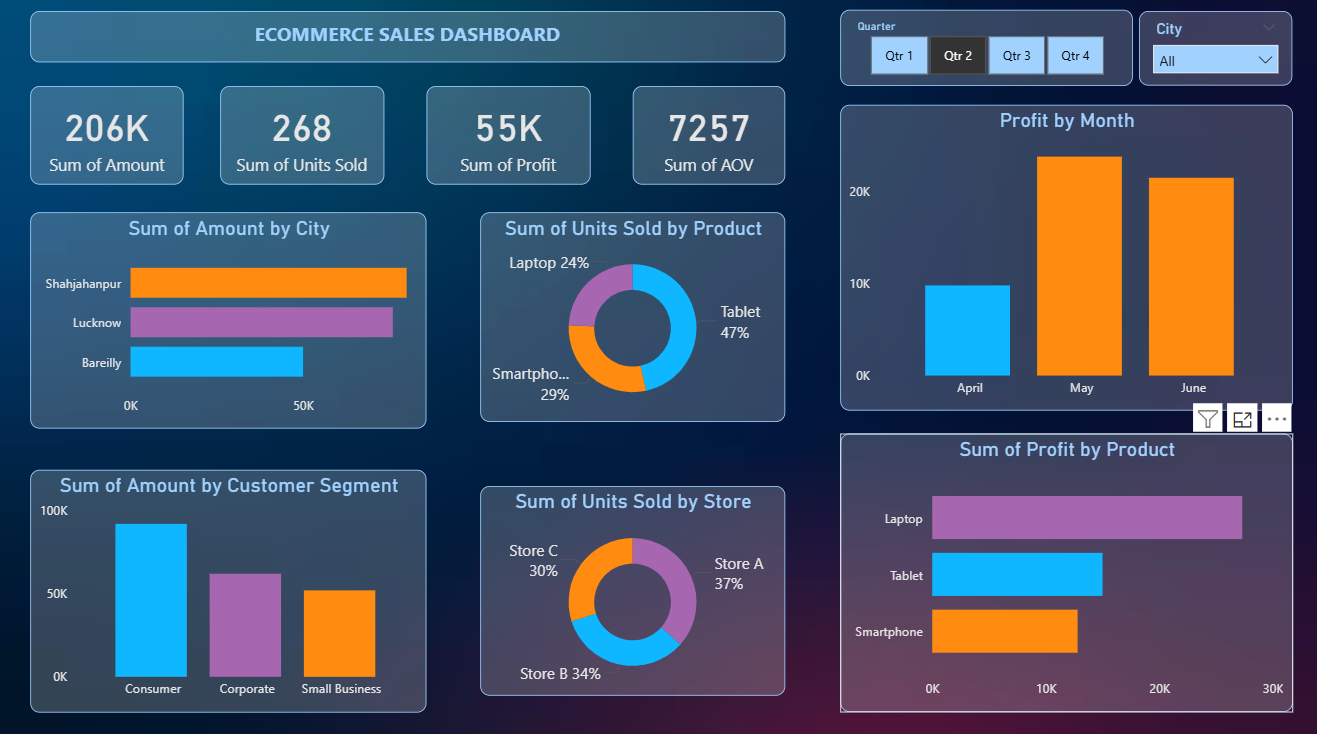

What the dashboard file says about the page in this screenshot:
{"tool":"powerbi","page":{"name":"Page 1","canvas":[1280,720],"ordinal":0},"visuals":[{"type":"columnChart","title":" Profit by Month","fields":{"Category":["Order.Date.Variation.Date Hierarchy.Month"],"Y":["Sum(Details.Profit ($))"]},"box":[811.9,105,436.7,295.6],"z":0},{"type":"barChart","fields":{"Y":["Sum(Details.Profit ($))"],"Category":["Details.Product"]},"box":[811.9,422.3,436.7,269],"z":1000},{"type":"donutChart","fields":{"Y":["Sum(Details.Units Sold)"],"Category":["Details.Product"]},"box":[464.5,208.7,294.4,202.7],"z":2000},{"type":"donutChart","fields":{"Y":["Sum(Details.Units Sold)"],"Category":["Details.Store"]},"box":[464.5,472.9,294.4,202.7],"z":3000},{"type":"card","fields":{"Values":["Sum(Details.Amount ($))"]},"box":[30.2,86.9,148.4,95.3],"z":4000},{"type":"card","fields":{"Values":["Sum(Details.Units Sold)"]},"box":[213.5,86.9,158,95.3],"z":5000},{"type":"card","fields":{"Values":["Sum(Details.Profit ($))"]},"box":[412.6,86.9,158,95.3],"z":6000},{"type":"card","fields":{"Values":["Sum(Details.AOV)"]},"box":[611.7,86.9,147.2,95.3],"z":7000},{"type":"barChart","fields":{"Y":["Sum(Details.Amount ($))"],"Category":["Order.City"]},"box":[30.2,208.7,382.4,208.7],"z":8000},{"type":"columnChart","fields":{"Y":["Sum(Details.Amount ($))"],"Category":["Details.Customer Segment"]},"box":[30.2,457.2,382.4,234],"z":9000},{"type":"slicer","fields":{"Values":["Order.Date.Variation.Date Hierarchy.Quarter"]},"box":[811.9,13.3,282.3,73.6],"z":10000},{"type":"slicer","fields":{"Values":["Order.City"]},"box":[1100.3,14.5,148.4,72.4],"z":11000},{"type":"textbox","box":[30.2,14.5,728.7,49.5],"z":12000}]}

Visuals, with their boxes in screenshot pixels (x1, y1, x2, y2), scaled from the page's 1280x720 canvas onto the 1317x734 screenshot:
" Profit by Month" columnChart: bbox=(835, 107, 1285, 408)
barChart - Sum(Details.Profit ($)) x Details.Product: bbox=(835, 431, 1285, 705)
donutChart - Sum(Details.Units Sold) x Details.Product: bbox=(478, 213, 781, 419)
donutChart - Sum(Details.Units Sold) x Details.Store: bbox=(478, 482, 781, 689)
card - Sum(Details.Amount ($)): bbox=(31, 89, 184, 186)
card - Sum(Details.Units Sold): bbox=(220, 89, 382, 186)
card - Sum(Details.Profit ($)): bbox=(425, 89, 587, 186)
card - Sum(Details.AOV): bbox=(629, 89, 781, 186)
barChart - Sum(Details.Amount ($)) x Order.City: bbox=(31, 213, 425, 426)
columnChart - Sum(Details.Amount ($)) x Details.Customer Segment: bbox=(31, 466, 425, 705)
slicer - Order.Date.Variation.Date Hierarchy.Quarter: bbox=(835, 14, 1126, 89)
slicer - Order.City: bbox=(1132, 15, 1285, 89)
textbox: bbox=(31, 15, 781, 65)
